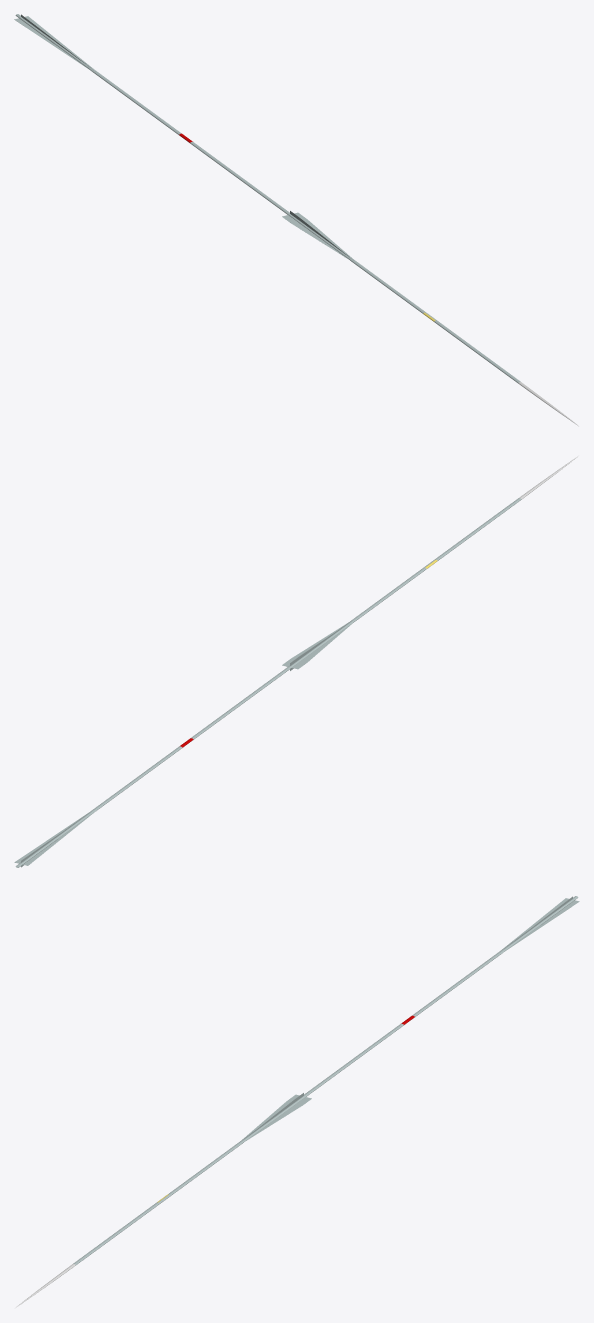
File: AIM7Fscaled.fbx
The picture shows the model from 3 angles, top to bottom: view 1: azimuth 30°, elevation 25°; view 2: azimuth 150°, elevation 25°; view 3: azimuth 330°, elevation 25°; orthographic projection.
Parts seen in each view (by area): view 1: Cube; view 2: Cube; view 3: Cube.
Part boxes in pixels (x1,y1,x2,y2): Cube: (15,14,578,425); Cube: (15,456,578,867); Cube: (15,896,578,1307).
Bounding box in the file's own units: 105 × 49.35 × 6164.
